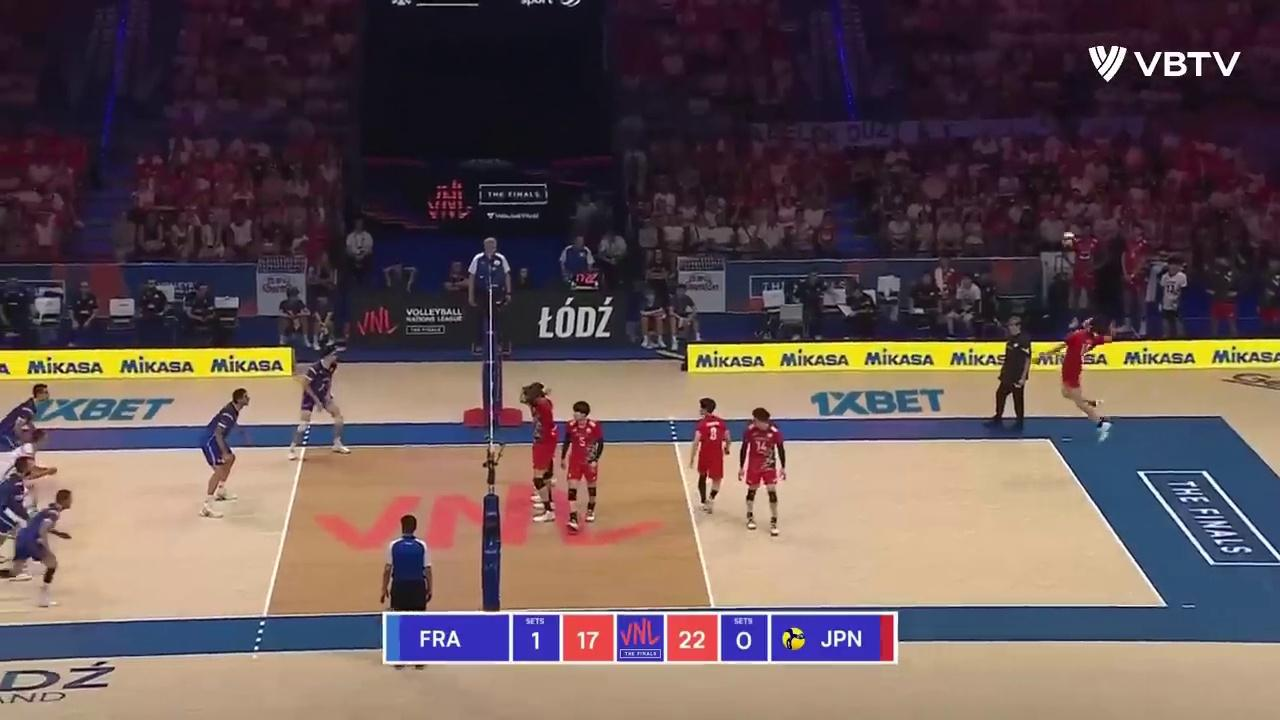ball: (1062, 232, 1076, 248)
